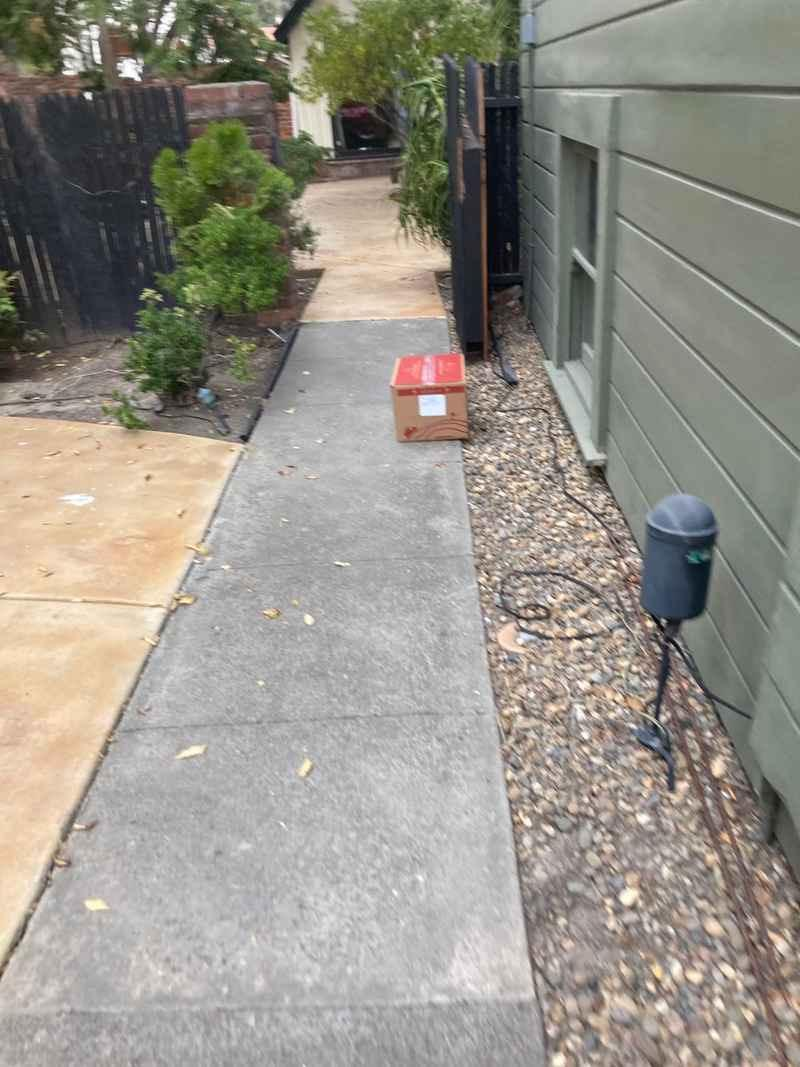package: (391, 350, 475, 445)
